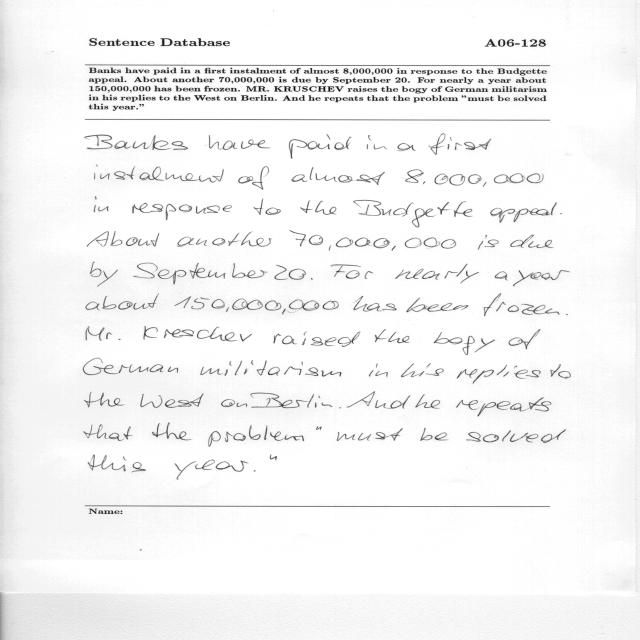word: (290, 230, 456, 251), (353, 200, 473, 227), (175, 296, 339, 315), (134, 263, 268, 284), (405, 169, 544, 187), (201, 360, 342, 377), (94, 165, 224, 182), (208, 425, 304, 447), (456, 398, 552, 417), (484, 294, 560, 317), (143, 326, 252, 342), (132, 203, 232, 220), (291, 167, 385, 185), (395, 264, 479, 284), (83, 358, 179, 375), (457, 365, 541, 384), (289, 134, 351, 159), (85, 135, 188, 150), (175, 460, 249, 480), (237, 393, 333, 408), (177, 232, 272, 247), (490, 202, 557, 223), (434, 332, 495, 355), (466, 429, 566, 443), (274, 331, 361, 347), (429, 134, 491, 155), (86, 294, 159, 311), (88, 231, 160, 247), (347, 392, 411, 409), (88, 455, 146, 473), (140, 393, 204, 408), (209, 135, 271, 150), (513, 270, 570, 286), (407, 298, 469, 312), (337, 428, 403, 441), (84, 424, 133, 441), (238, 166, 269, 190), (90, 262, 118, 287), (152, 423, 191, 440), (353, 296, 397, 311), (509, 329, 541, 349), (331, 264, 373, 279), (401, 363, 444, 377), (85, 392, 125, 407), (510, 235, 554, 248), (300, 200, 336, 215), (86, 326, 121, 341), (274, 265, 306, 280), (253, 198, 281, 215), (375, 329, 409, 343), (416, 394, 441, 409), (420, 428, 448, 441), (478, 235, 499, 250), (550, 364, 571, 379), (367, 135, 387, 149), (369, 364, 388, 378), (94, 197, 109, 212), (397, 143, 416, 151), (495, 272, 508, 281), (221, 399, 235, 407), (270, 455, 277, 460), (316, 427, 322, 431), (253, 470, 256, 472), (560, 213, 562, 215), (311, 278, 313, 280), (566, 314, 568, 315), (339, 408, 341, 409)
